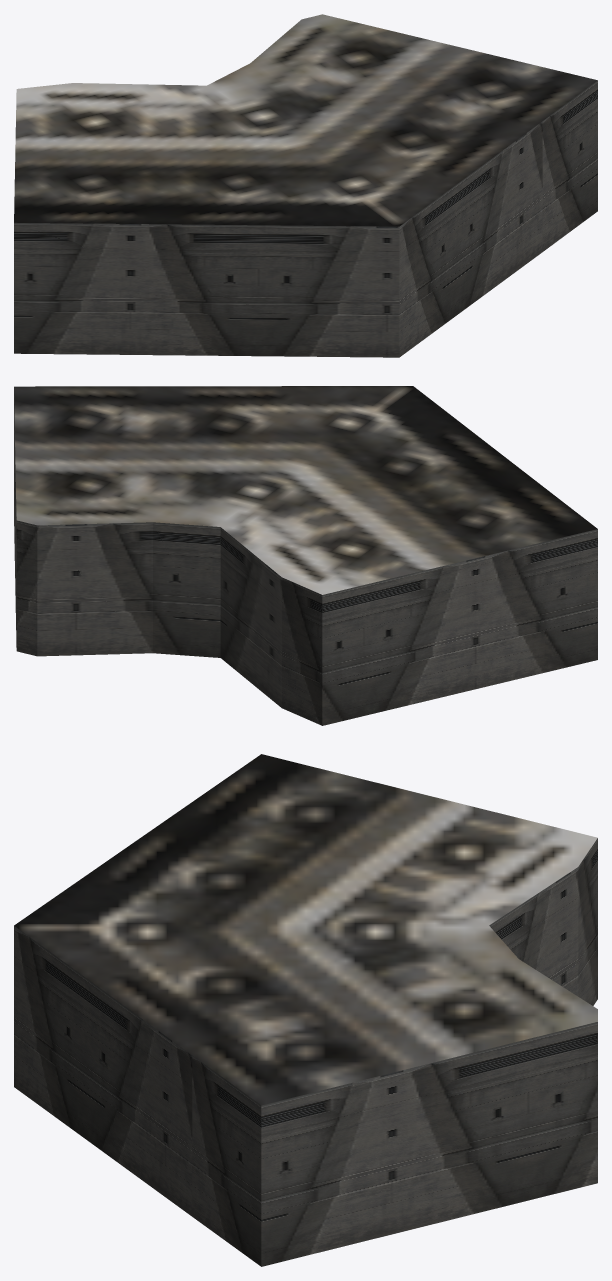
File: fortress_hard_34.glb
The picture shows the model from 3 angles, top to bottom: view 1: azimuth 30°, elevation 25°; view 2: azimuth 150°, elevation 25°; view 3: azimuth 270°, elevation 25°; orthographic projection. The views are drawn at different scales.
Visible parts, largest first — view 1: buildings/saxarba/fortress_hard/fortress_hard_34; view 2: buildings/saxarba/fortress_hard/fortress_hard_34; view 3: buildings/saxarba/fortress_hard/fortress_hard_34.
Part boxes in pixels (x1,y1,x2,y2): buildings/saxarba/fortress_hard/fortress_hard_34: [14, 14, 597, 357]; buildings/saxarba/fortress_hard/fortress_hard_34: [14, 386, 597, 725]; buildings/saxarba/fortress_hard/fortress_hard_34: [14, 754, 597, 1266].
Bounding box in the file's own units: 84 × 18 × 59.
